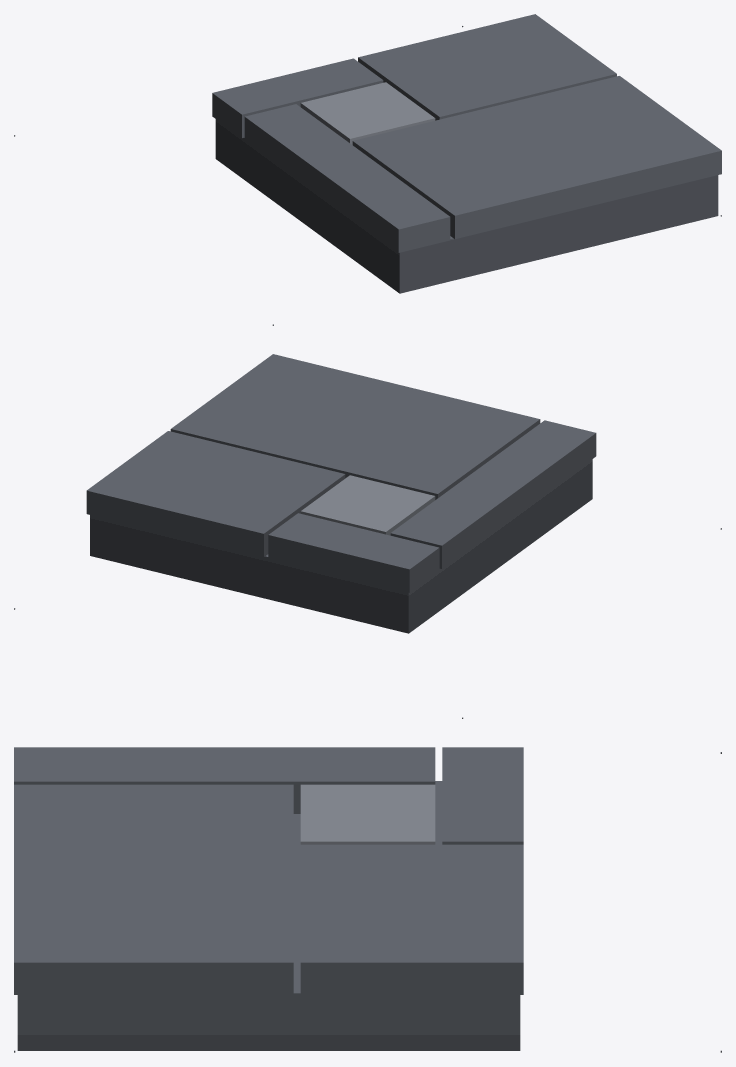
Rendered from floor_metal_corner.glb.
The picture shows the model from 3 angles, top to bottom: view 1: azimuth 30°, elevation 25°; view 2: azimuth 150°, elevation 25°; view 3: azimuth 270°, elevation 25°; orthographic projection. The views are drawn at different scales.
Size of the model in its own units: 1 by 0.14 by 1.
Materials: 1 (1 with a texture image).
